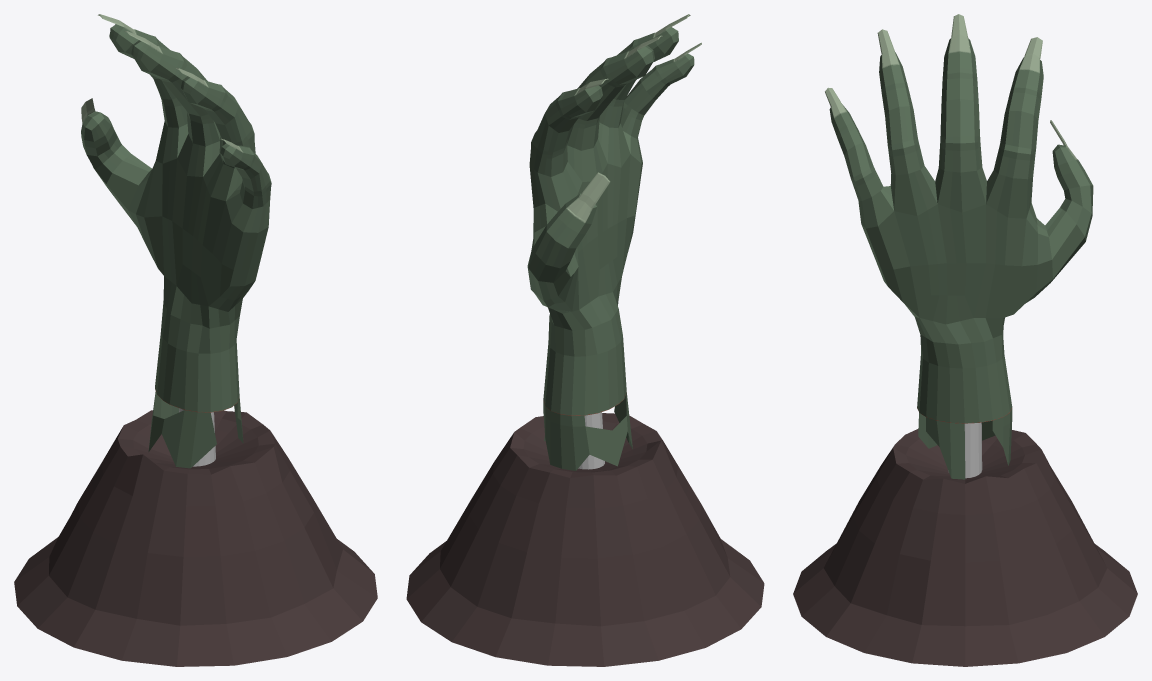
Rendered from HandOutOfGroundNails_Dirt.fbx.
3 renders of one model, left to right at view 1: azimuth 30°, elevation 25°; view 2: azimuth 150°, elevation 25°; view 3: azimuth 270°, elevation 25°, orthographic. The views are drawn at different scales.
Parts seen in each view (by area): view 1: Hand out of Ground but nails; view 2: Hand out of Ground but nails; view 3: Hand out of Ground but nails.
Boxes of the visible parts, x1,y1,x2,y2 form: Hand out of Ground but nails: [14, 14, 377, 666]; Hand out of Ground but nails: [406, 14, 764, 666]; Hand out of Ground but nails: [793, 14, 1137, 666].
Bounding box in the file's own units: 299 × 522 × 299.
